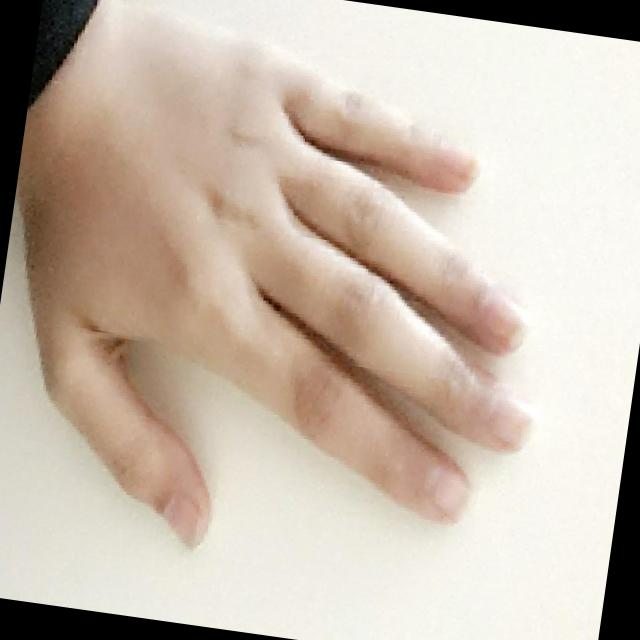Nail: (475, 290, 530, 349), (428, 463, 474, 518), (162, 495, 200, 549), (493, 399, 535, 447), (435, 148, 482, 181)
